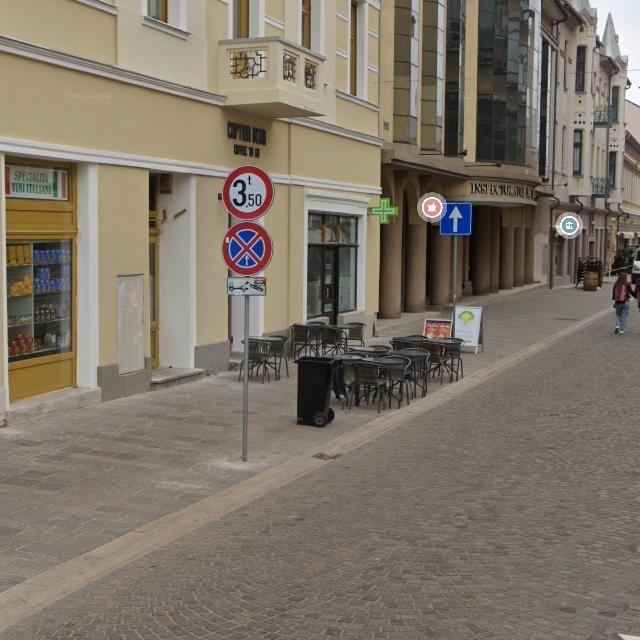forb_waiting: (222, 221, 274, 276)
